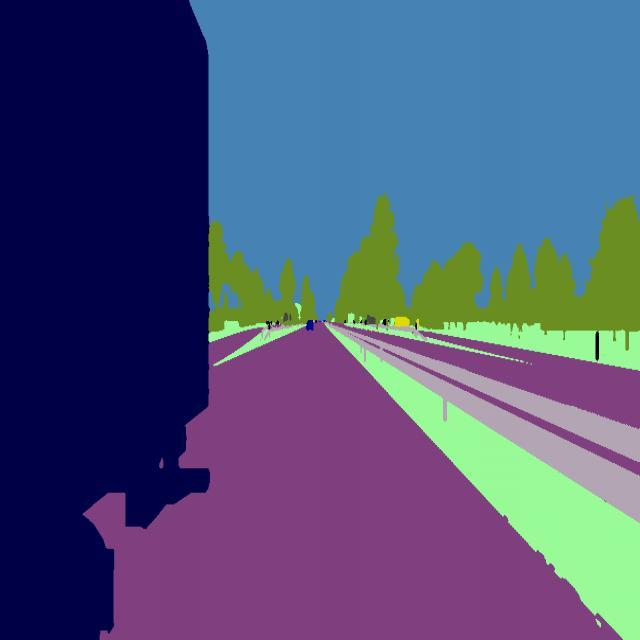safe: (301, 316, 316, 336)
unsafe: (0, 0, 215, 640)
